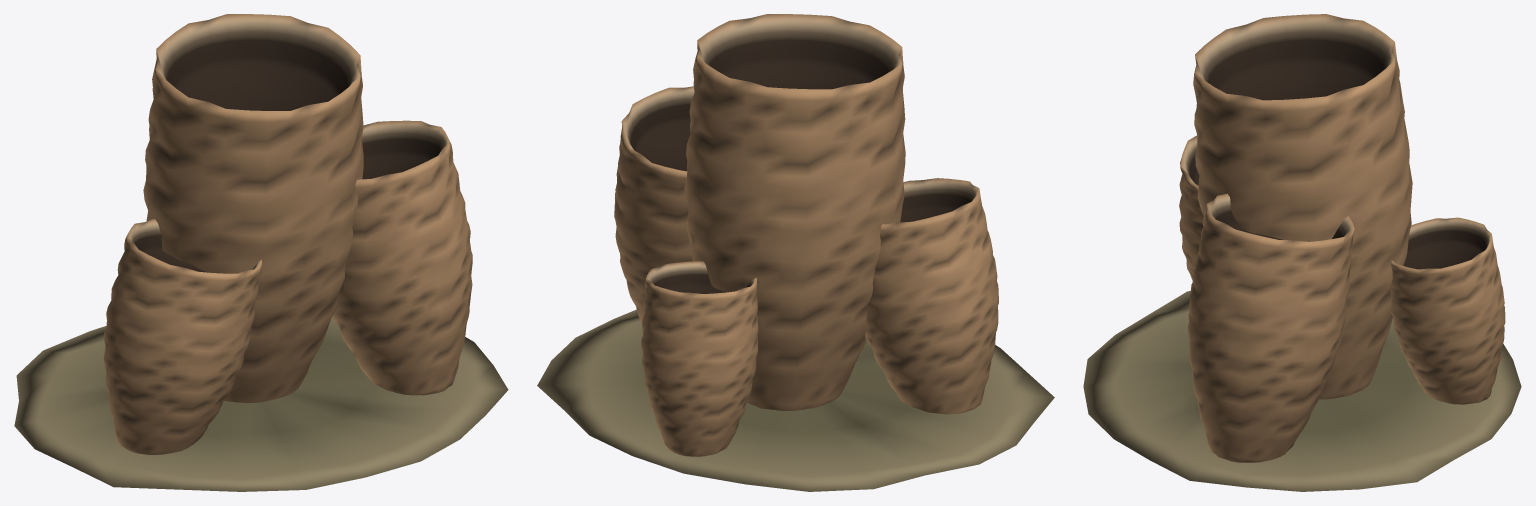
The model's file is Namalia.fbx.
The picture shows the model from 3 angles, left to right: view 1: azimuth 30°, elevation 25°; view 2: azimuth 150°, elevation 25°; view 3: azimuth 270°, elevation 25°; orthographic projection. The views are drawn at different scales.
Visible parts, largest first — view 1: Namalia; view 2: Namalia; view 3: Namalia.
Part boxes in pixels (box(x1,y1,x2,y2)): Namalia: box(14, 14, 508, 491); Namalia: box(537, 14, 1054, 491); Namalia: box(1083, 14, 1521, 491).
Size of the model in its own units: 1.3 by 0.9678 by 1.14.
